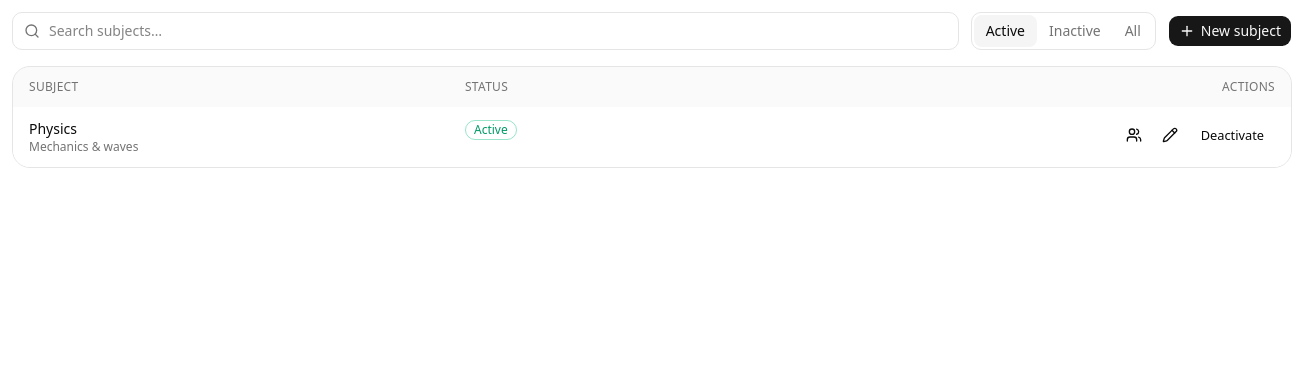
Test case: SubjectManager — edit / deactivate / mutual exclusivity › opening a row edit collapses the create form
Click the button "New subject" at (1230, 31), box x1=1168 y1=15 x2=1292 y2=47
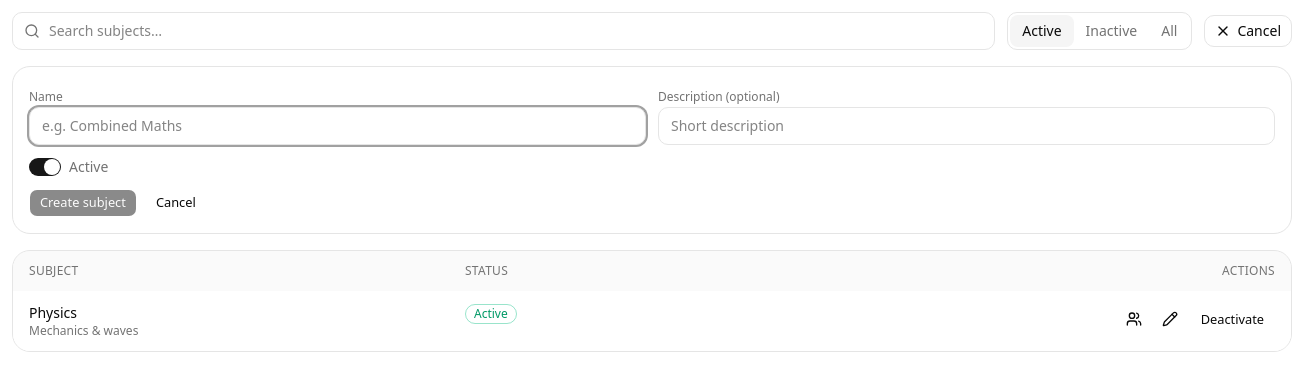
Expected: the button "Create subject" is shown, x1=29 y1=189 x2=137 y2=217
Click the button named "Edit Physics" at (1170, 319), box x1=1154 y1=303 x2=1186 y2=335
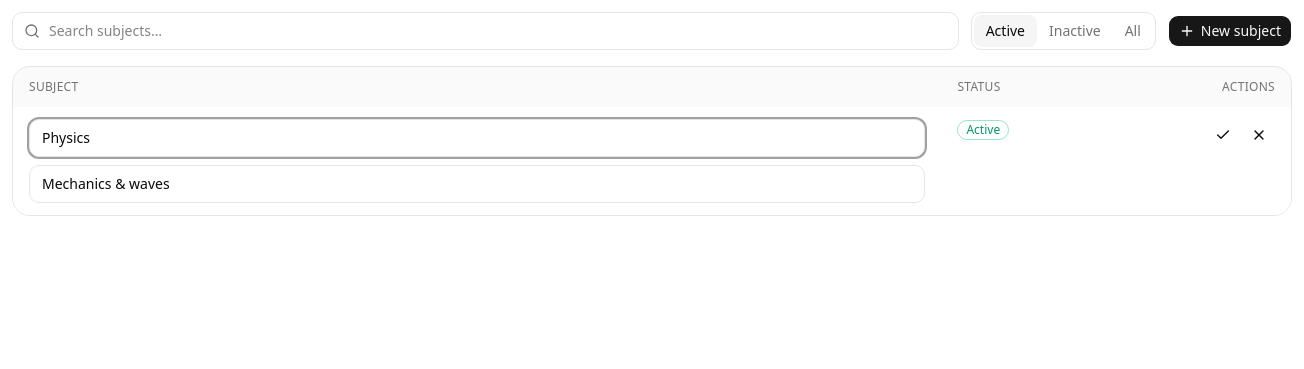
Expected: the button "Create subject" is gone
Expected: the field named "Subject name" holds "Physics", x1=29 y1=119 x2=925 y2=157
